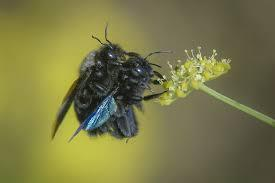Xylocopa: (38, 27, 163, 152), (98, 32, 171, 149)
